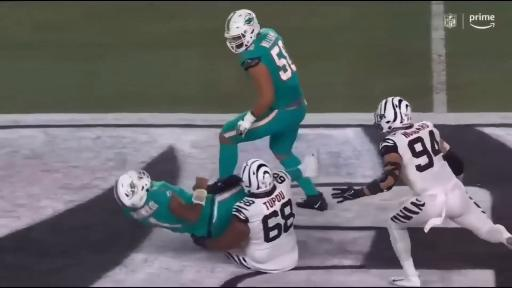Helmet: (225, 10, 260, 53), (114, 171, 150, 208), (375, 97, 411, 132), (241, 159, 274, 193)
Jersey: (233, 171, 298, 272), (380, 122, 458, 195), (240, 28, 302, 110), (124, 182, 210, 235)
Player: (332, 97, 511, 286), (219, 10, 306, 178), (195, 159, 298, 272), (114, 171, 245, 236)
